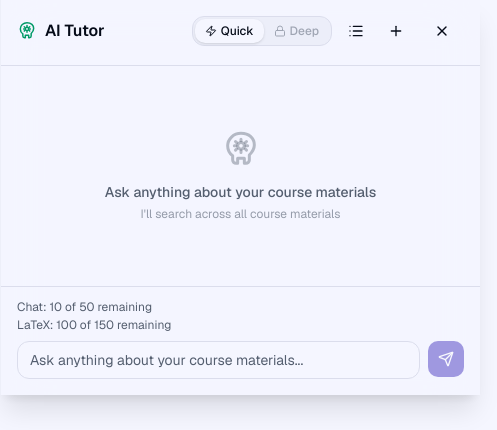
Scenario: AiChatPanel › handles a 429 rate limit error with a friendly message
This screenshot has width=497, height=430.
Expected: the text "Ask anything about your course materials" is shown, [105,182,376,202]
In the field with placeholder "Ask anything about your course materials...": (218, 360) [17,341,420,379], type "What is calculus?"
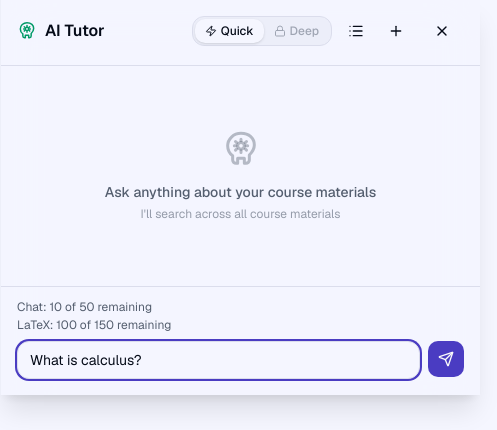
Submit the form with placeholder "Ask anything about your course materials...", box [17,341,464,379]
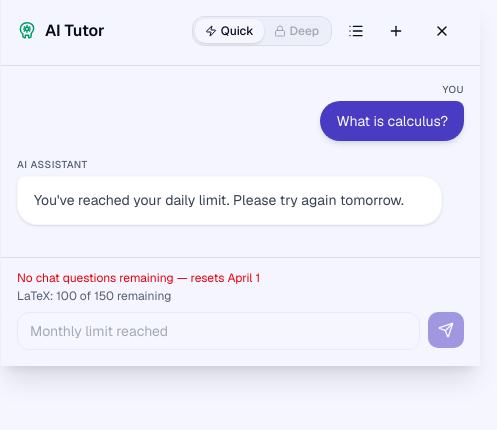
Result: the text "You've reached your daily limit. Please try again tomorrow." is shown at [34,189,425,212]
